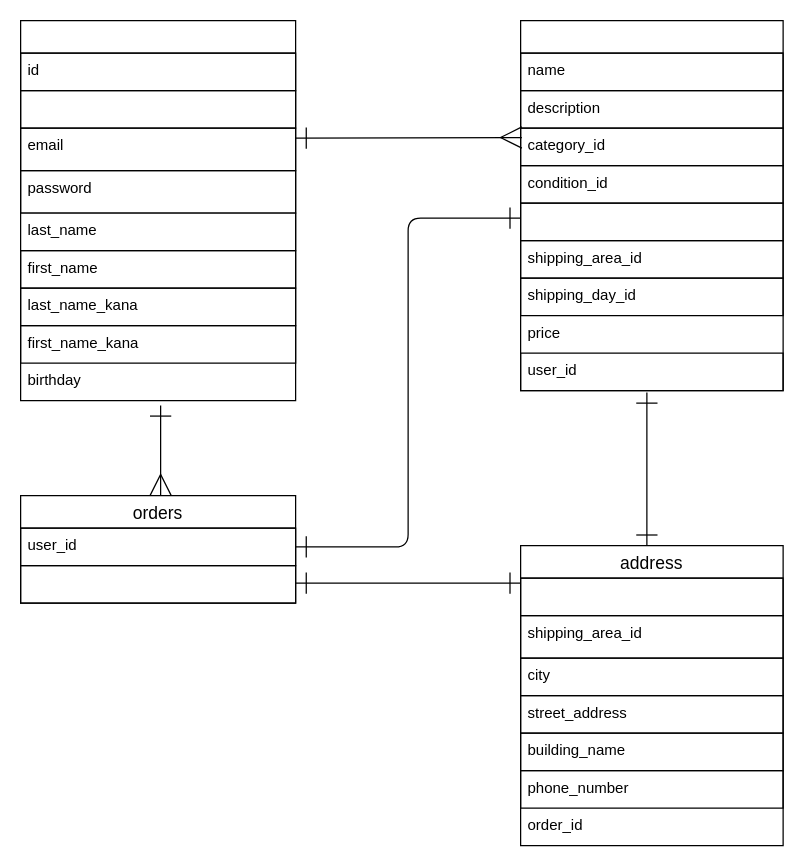
Image size: 804x866. Some labels were removed from this diagram. Each missing label, with the box of its shape:
item_id: (19, 564, 296, 603)
items: (519, 19, 783, 391)
nickname: (19, 89, 296, 128)
postal_code: (519, 577, 783, 616)
shipping_charge_id: (519, 202, 783, 241)
users: (19, 19, 296, 401)
